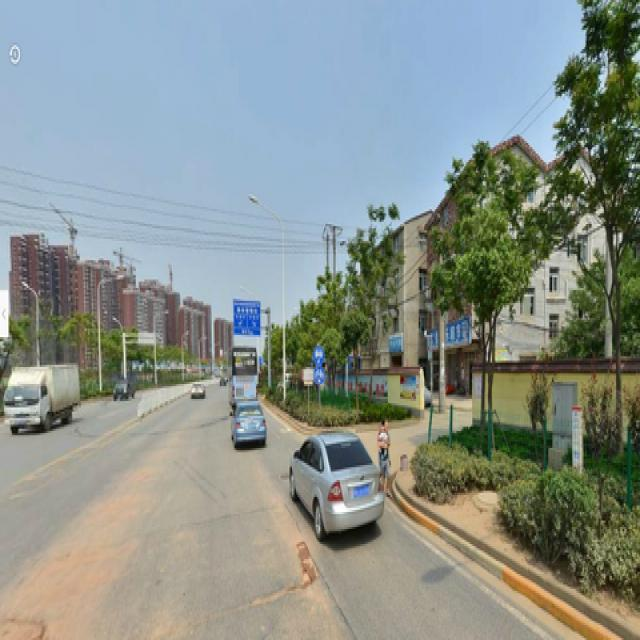koel: (569, 47, 636, 294), (355, 222, 388, 350), (459, 183, 529, 234), (305, 292, 344, 348)
